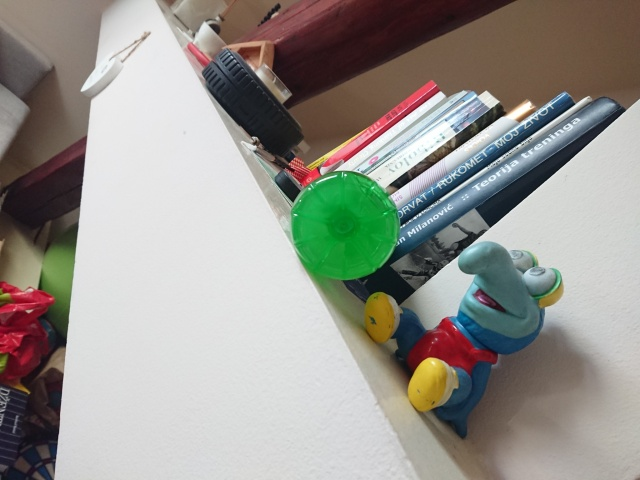Vindi Iso Sport Lemon-Grapefruit 500mL: (288, 169, 403, 283)
